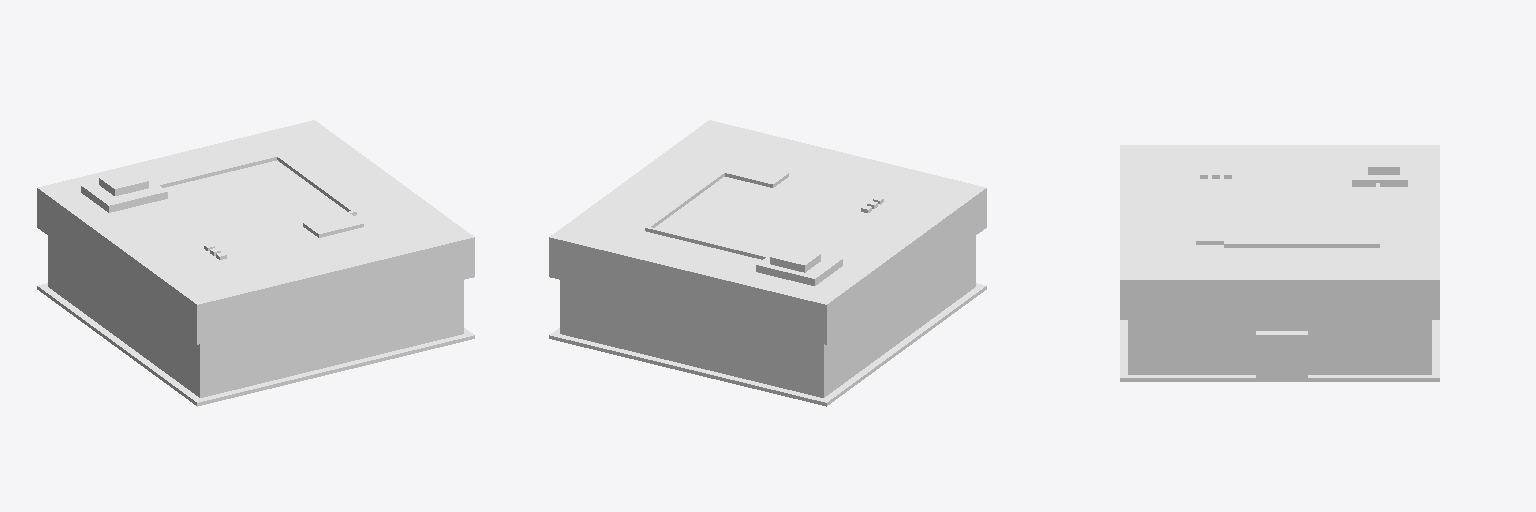
The model's file is Asset-23.obj.
3 views of the same model, side by side, from view 1: azimuth 30°, elevation 25°; view 2: azimuth 150°, elevation 25°; view 3: azimuth 270°, elevation 25° (orthographic).
Visible parts, largest first — view 1: Asset-23; view 2: Asset-23; view 3: Asset-23.
Boxes of the visible parts, box(x1,y1,x2,y2) form: Asset-23: box(37, 120, 474, 406); Asset-23: box(549, 120, 986, 406); Asset-23: box(1120, 145, 1439, 381).
Size of the model in its own units: 80 by 32 by 80.